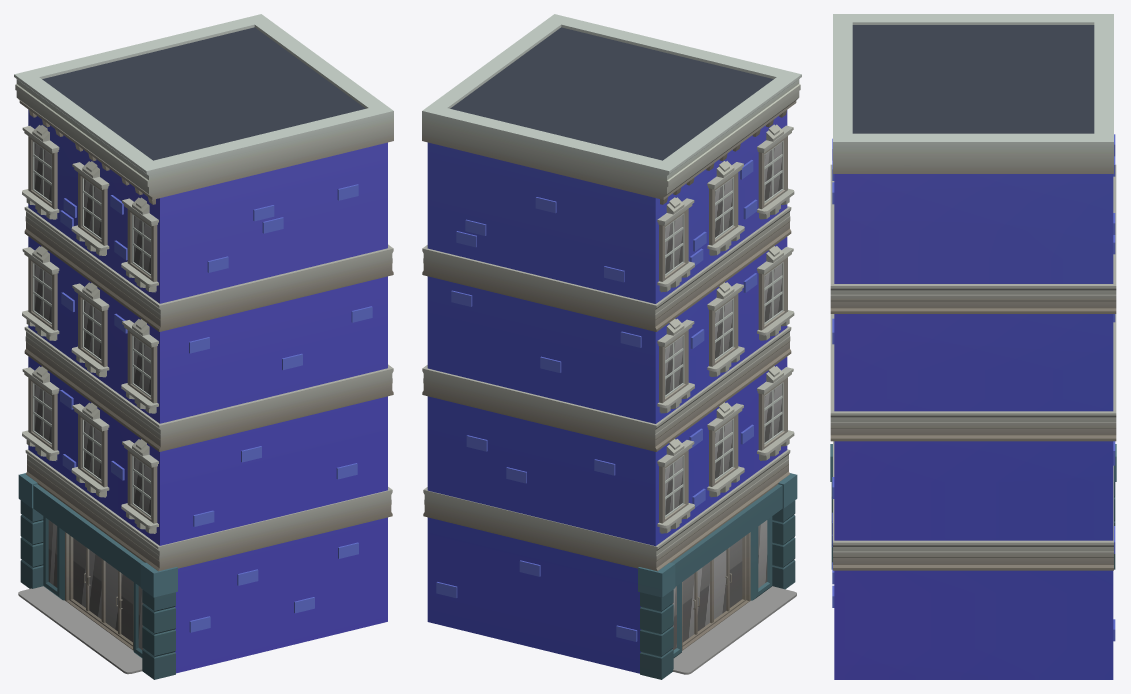
Rendered from Building_21_2_G.fbx.
3 views of the same model, side by side, from view 1: azimuth 30°, elevation 25°; view 2: azimuth 150°, elevation 25°; view 3: azimuth 270°, elevation 25° (orthographic). The views are drawn at different scales.
Parts seen in each view (by area): view 1: Building_21_2_G; view 2: Building_21_2_G; view 3: Building_21_2_G.
Boxes of the visible parts, x1,y1,x2,y2 form: Building_21_2_G: [14, 14, 393, 679]; Building_21_2_G: [422, 14, 801, 679]; Building_21_2_G: [830, 14, 1116, 679].
Bounding box in the file's own units: 779 × 1485 × 713.
